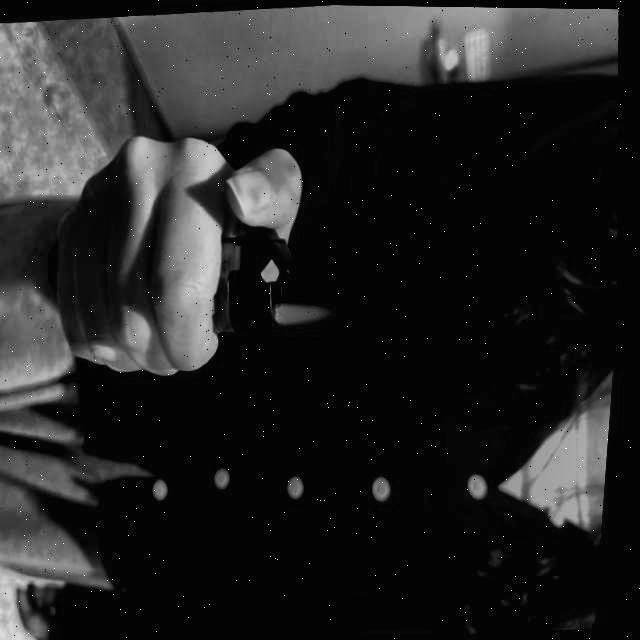Fire: (278, 296, 342, 325)
